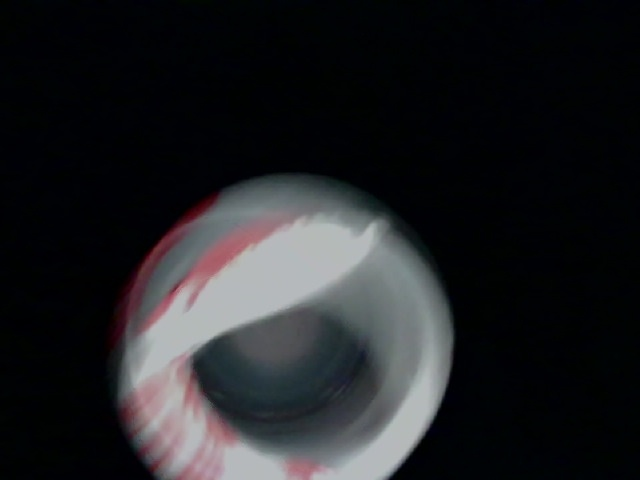CYLJ: (235, 1, 591, 125)
